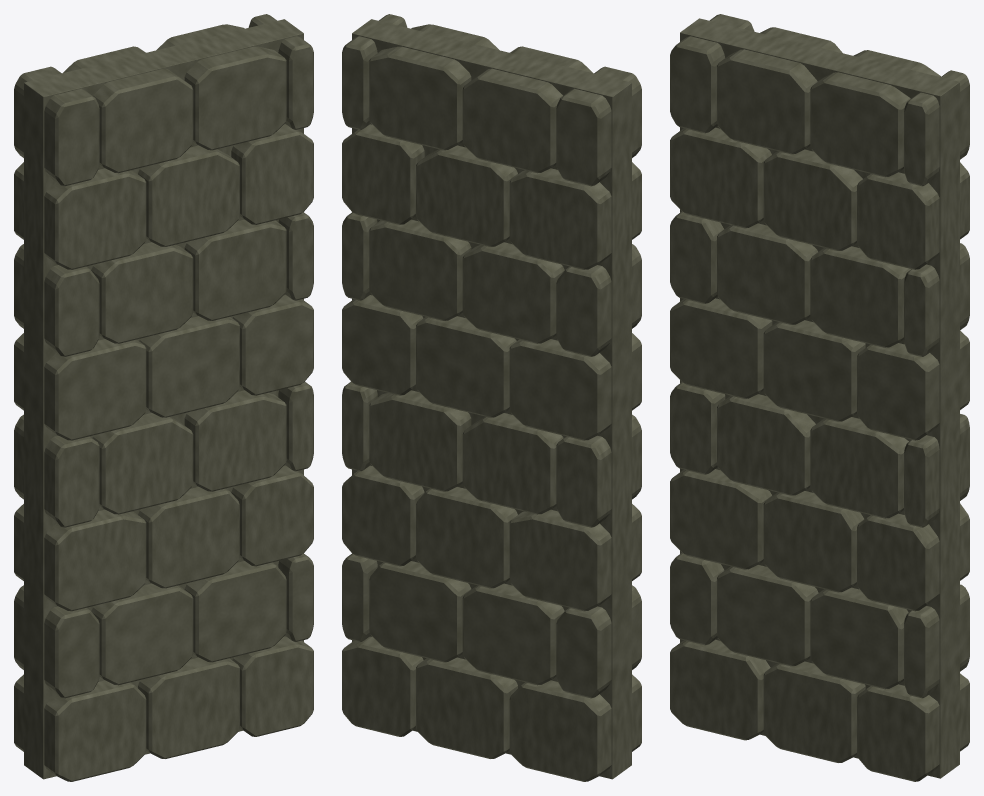
File: wall_fieldstone_b.glb
3 views of the same model, side by side, from view 1: azimuth 30°, elevation 25°; view 2: azimuth 150°, elevation 25°; view 3: azimuth 330°, elevation 25° (orthographic).
Parts seen in each view (by area): view 1: wall_fieldstone_b; view 2: wall_fieldstone_b; view 3: wall_fieldstone_b.
Part boxes in pixels (left/top/right/bottom): wall_fieldstone_b: left=14, top=14, right=313, bottom=781; wall_fieldstone_b: left=342, top=14, right=641, bottom=781; wall_fieldstone_b: left=670, top=14, right=969, bottom=781.
Size of the model in its own units: 1 by 2.5 by 0.29.
Materials: 1 (1 with a texture image).
